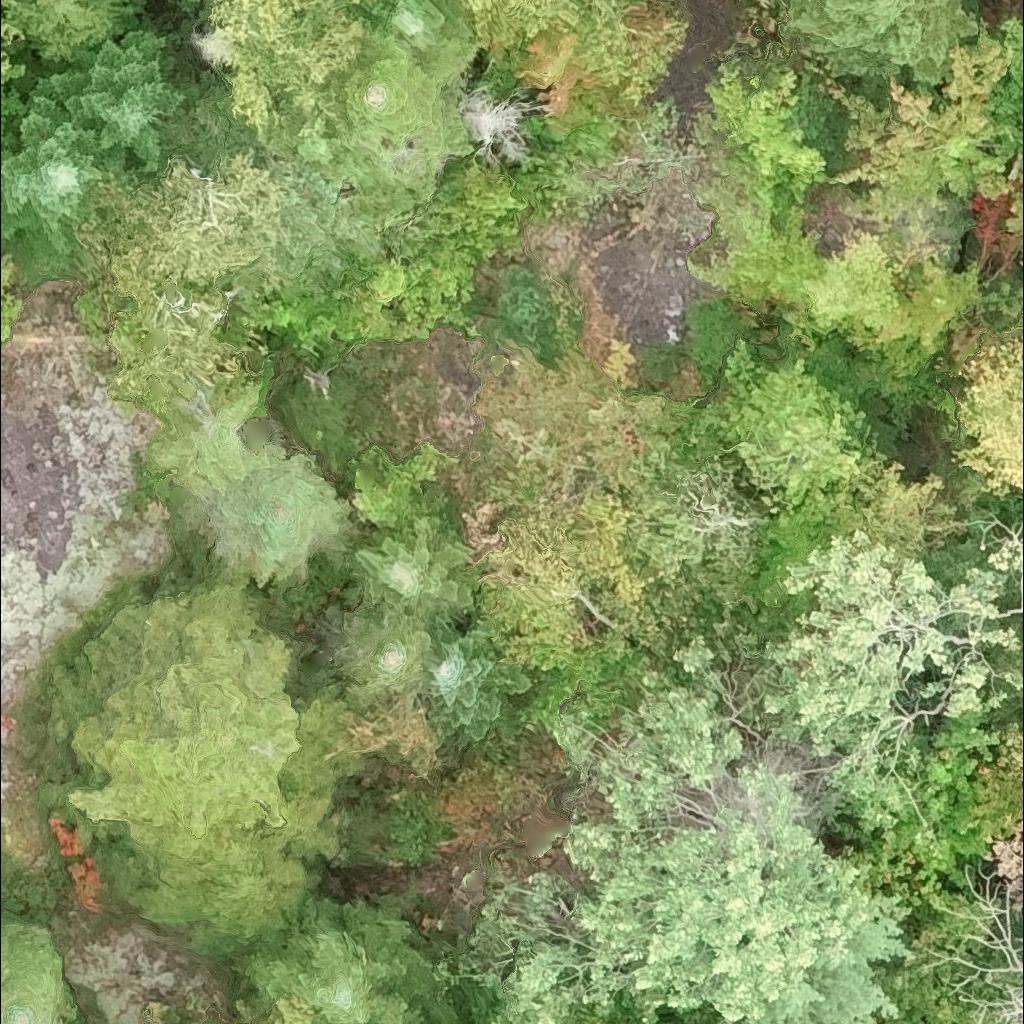crown: (437, 666, 869, 1023), (43, 567, 365, 962), (672, 532, 1023, 831), (691, 195, 987, 396), (77, 152, 288, 423), (450, 344, 680, 563), (376, 125, 586, 337), (331, 682, 569, 861), (822, 16, 1023, 220), (620, 439, 790, 672), (0, 875, 267, 1023), (756, 452, 966, 626), (474, 0, 685, 172), (472, 486, 666, 673), (686, 337, 886, 509), (296, 32, 471, 228), (173, 434, 357, 585), (195, 0, 366, 157), (246, 895, 444, 1023), (0, 78, 130, 257), (241, 239, 431, 357), (247, 140, 383, 296), (706, 60, 828, 213), (52, 32, 183, 170), (780, 0, 981, 81), (417, 616, 532, 748), (463, 0, 634, 87), (350, 515, 475, 632), (951, 326, 1023, 497), (348, 441, 458, 542), (349, 0, 477, 83), (4, 0, 147, 68), (0, 906, 75, 1023), (333, 609, 431, 695), (51, 811, 113, 913), (459, 88, 536, 162), (978, 611, 1023, 732), (198, 990, 314, 1023), (0, 0, 29, 87), (554, 995, 641, 1023), (997, 722, 1023, 785), (1006, 166, 1023, 238), (471, 981, 496, 1023), (0, 87, 28, 118), (0, 128, 21, 157), (63, 1003, 84, 1023), (187, 0, 212, 7), (652, 1015, 666, 1023), (1020, 533, 1023, 538), (1022, 265, 1023, 268)
